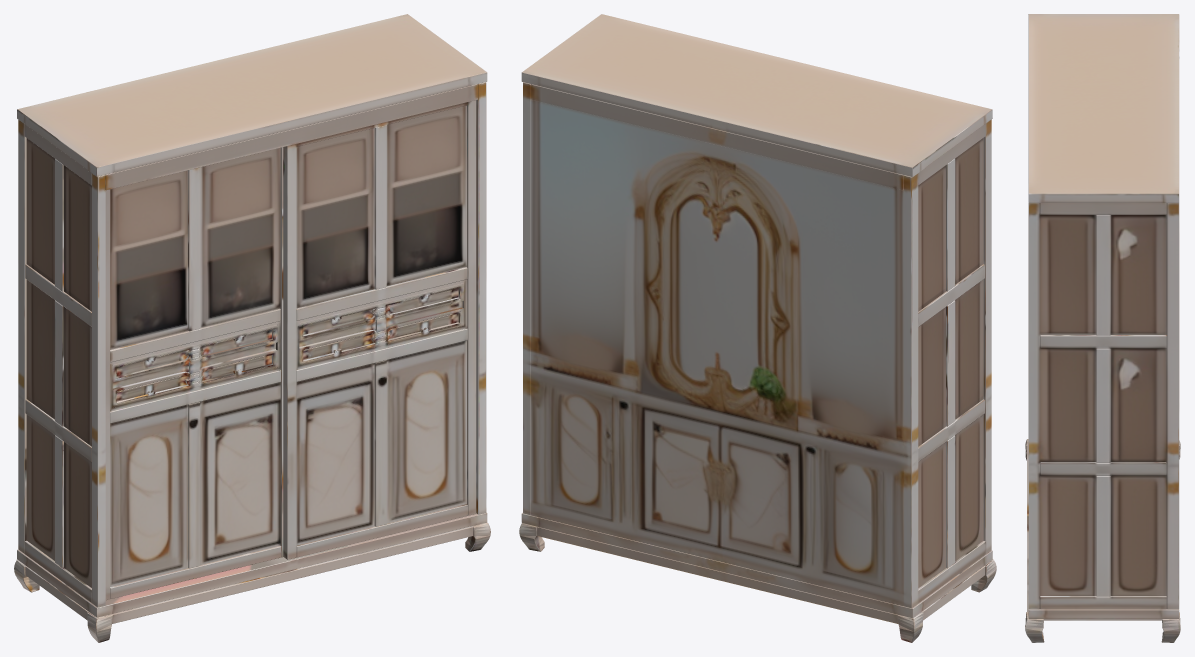
File: edited_mesh.glb
3 views of the same model, side by side, from view 1: azimuth 30°, elevation 25°; view 2: azimuth 150°, elevation 25°; view 3: azimuth 270°, elevation 25° (orthographic). The views are drawn at different scales.
Parts seen in each view (by area): view 1: normalized_model.obj; view 2: normalized_model.obj; view 3: normalized_model.obj.
Part boxes in pixels (box(x1,y1,x2,y2)): normalized_model.obj: box(14, 14, 490, 642); normalized_model.obj: box(519, 14, 996, 642); normalized_model.obj: box(1025, 14, 1180, 642).
Bounding box in the file's own units: 1.21 × 1.4 × 0.4358.
1 material, 1 textured.
